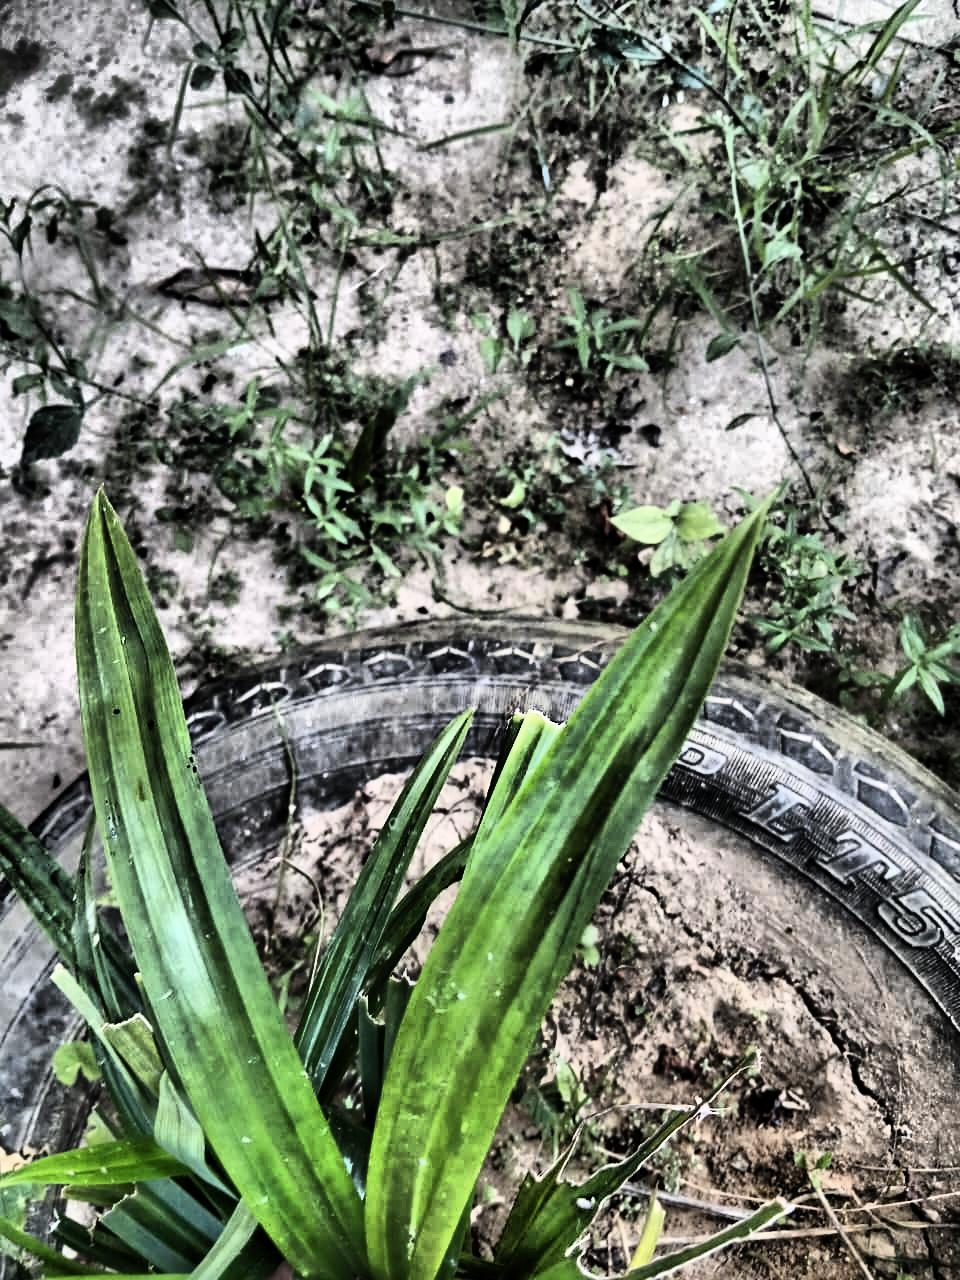daun pandan: (0, 493, 764, 1279)
